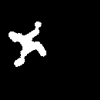single_crochet: (9, 22, 45, 66)
